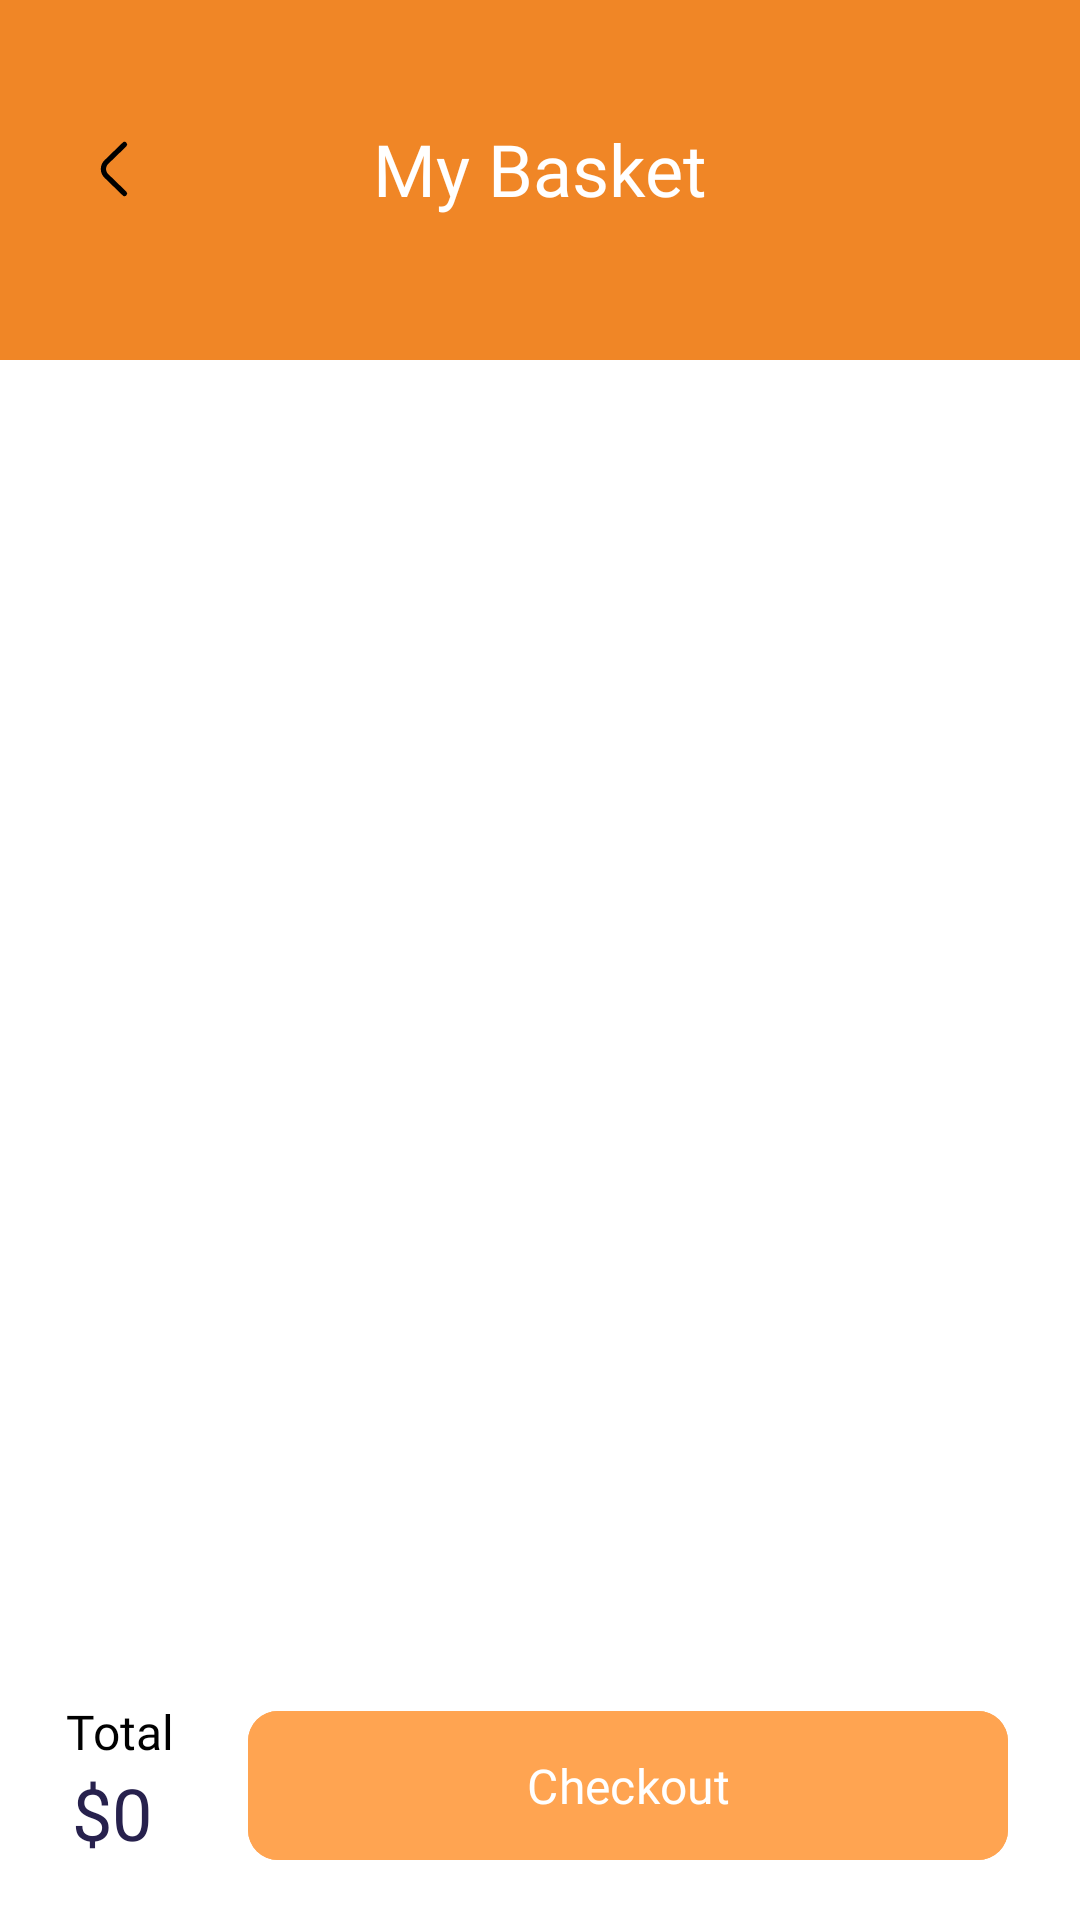

Locate icon controls on the screen. Image size 1080*1920, boxes as Rect(x1, y1, x2, y2).
left: Rect(100, 141, 128, 197)
